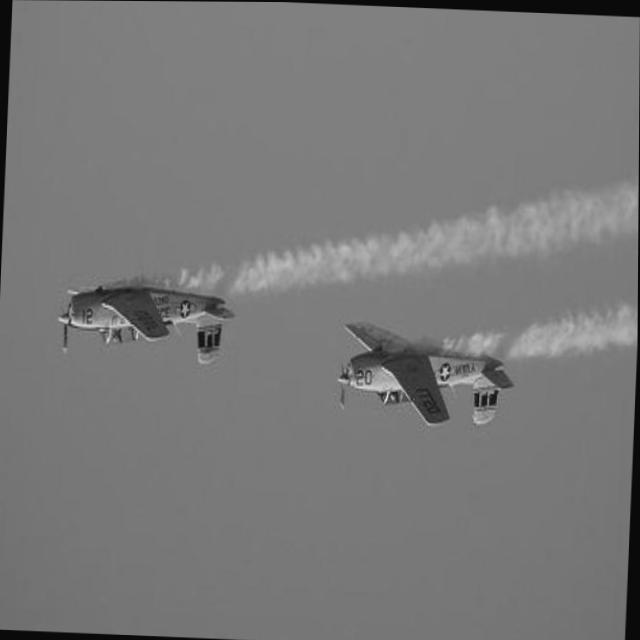aeroplane: (336, 317, 517, 429), (54, 279, 236, 367)
